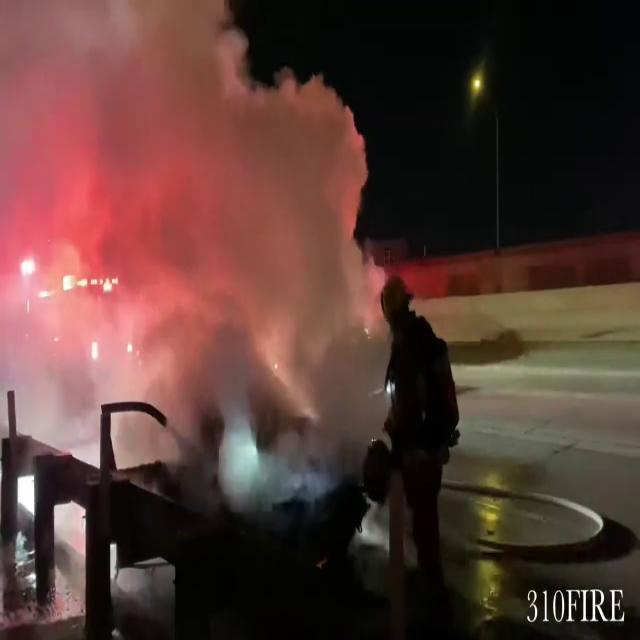Smoke: (1, 0, 400, 464)
